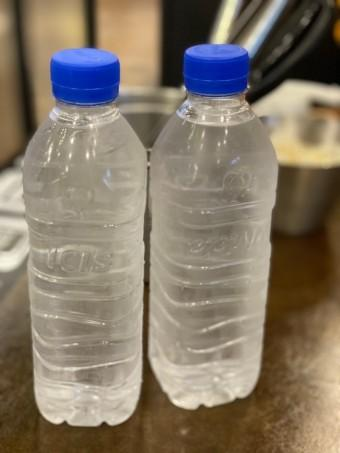bottle: (144, 46, 280, 410), (22, 45, 151, 428)
